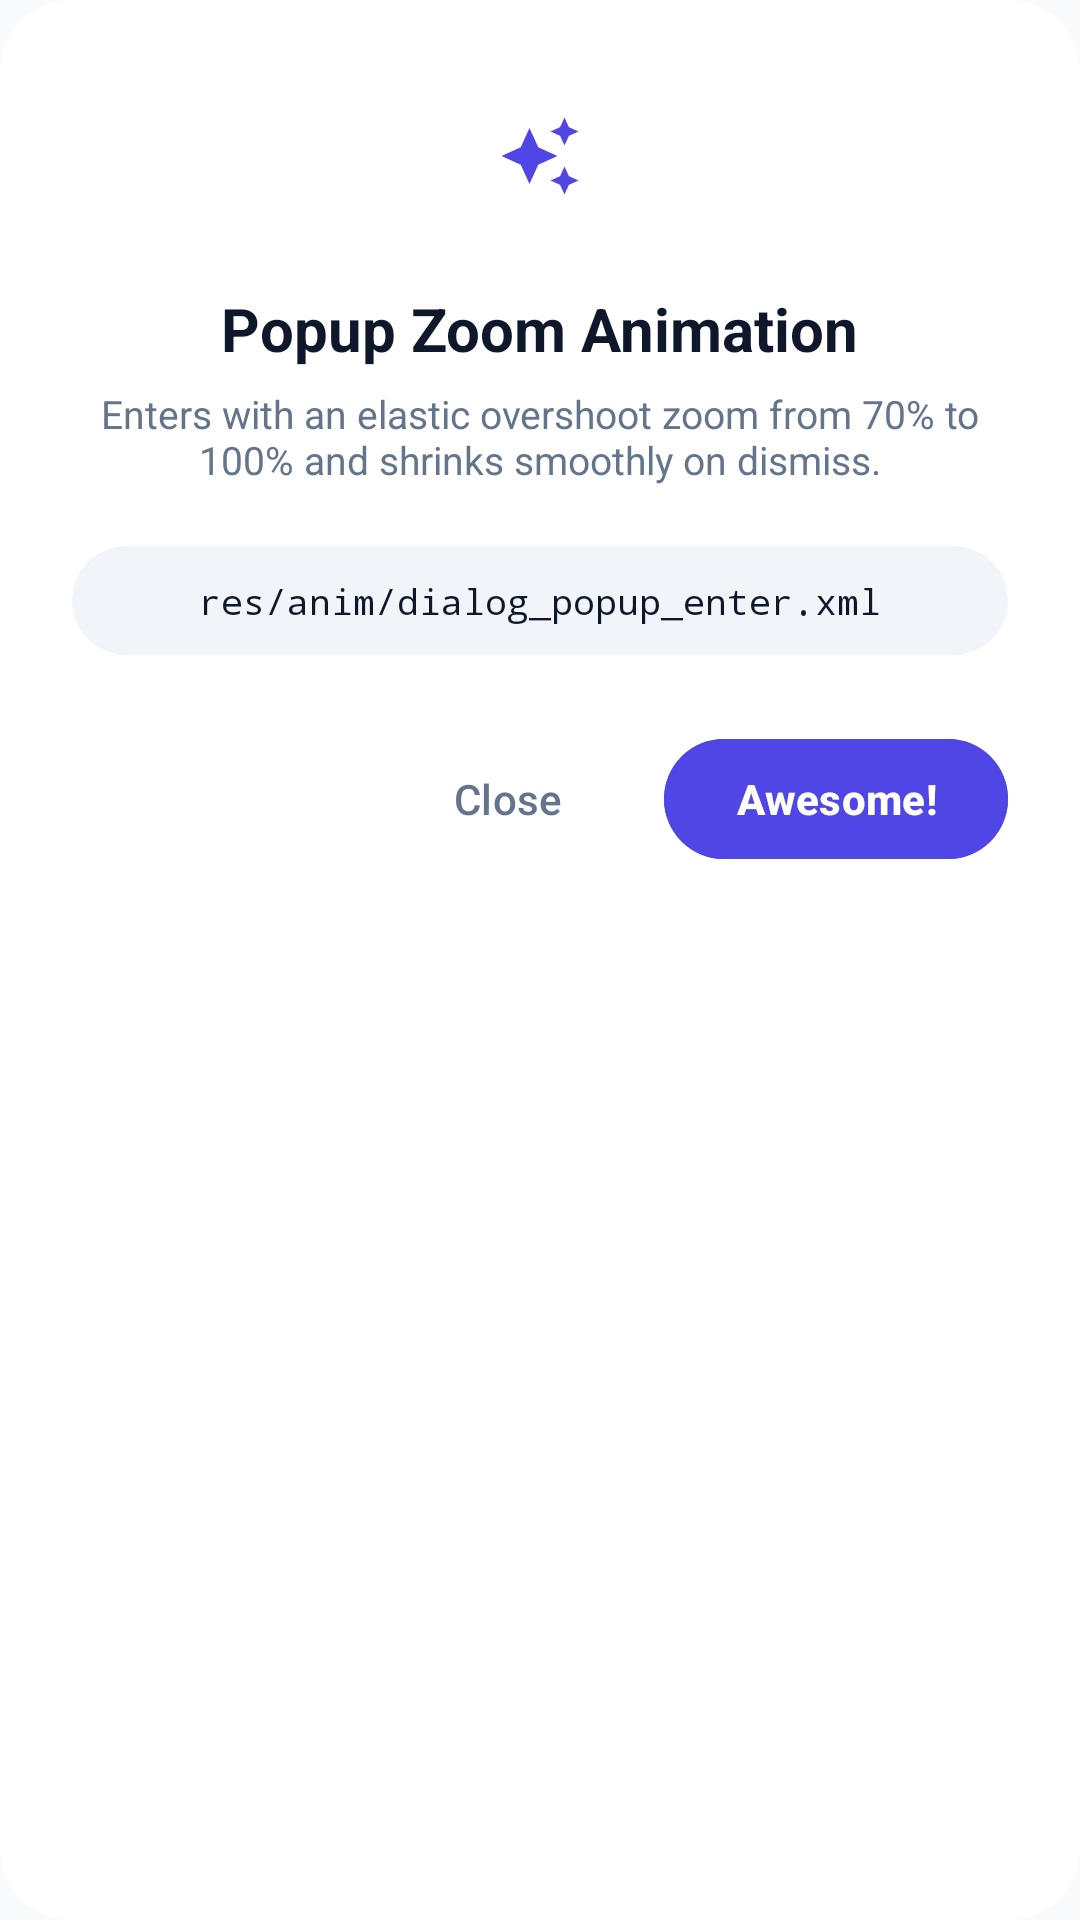

Named icons in this screenshot (1080x1920) and their centers, [x,y]:
sparkle: [540,156]
